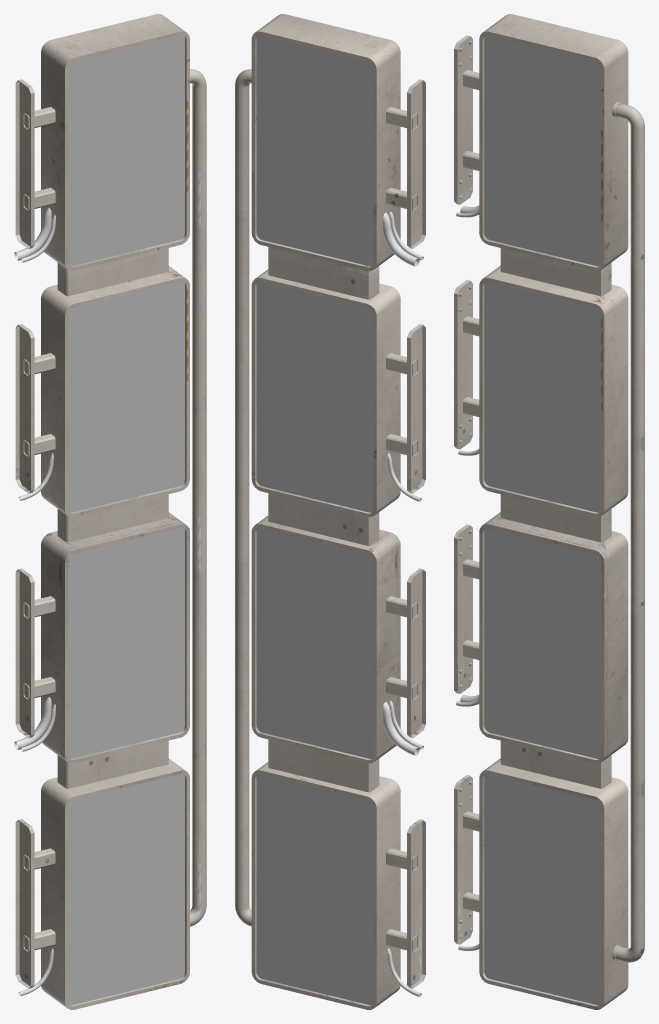
File: KB3D_CBP_Billboard_N.fbx
3 views of the same model, side by side, from view 1: azimuth 30°, elevation 25°; view 2: azimuth 150°, elevation 25°; view 3: azimuth 330°, elevation 25° (orthographic).
Parts seen in each view (by area): view 1: KB3D_CBP_Billboard_N_Main; view 2: KB3D_CBP_Billboard_N_Main; view 3: KB3D_CBP_Billboard_N_Main.
Boxes of the visible parts, <box> form: KB3D_CBP_Billboard_N_Main: <box>14,14,206,1009</box>; KB3D_CBP_Billboard_N_Main: <box>235,14,425,1009</box>; KB3D_CBP_Billboard_N_Main: <box>454,14,644,1009</box>.
Size of the model in its own units: 169 by 830 by 37.91.
